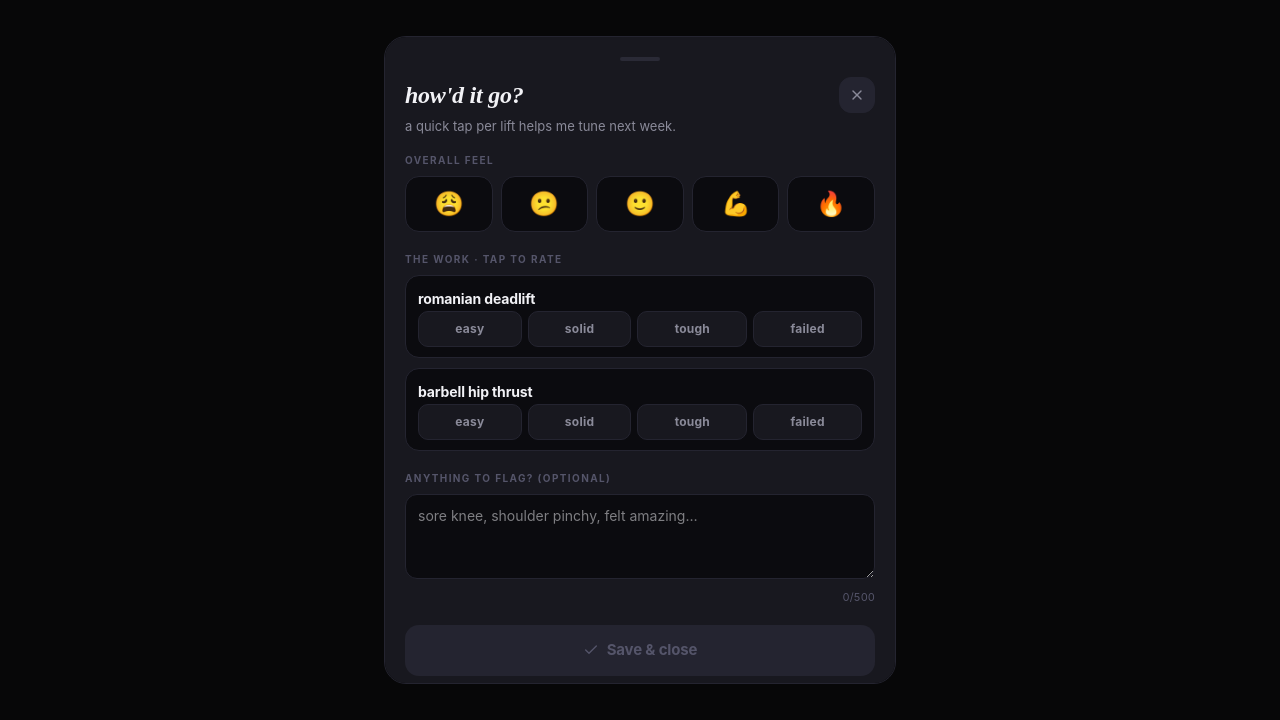
Test: SessionCheckinSheet › Save button is disabled until every exercise is rated and overall feel is set
Expected: the button with test id "checkin-save" is disabled, [405,625,875,676]
Click the radio button with test id "rating-ex:rdl-solid" at (580, 328), box [528,310,631,346]
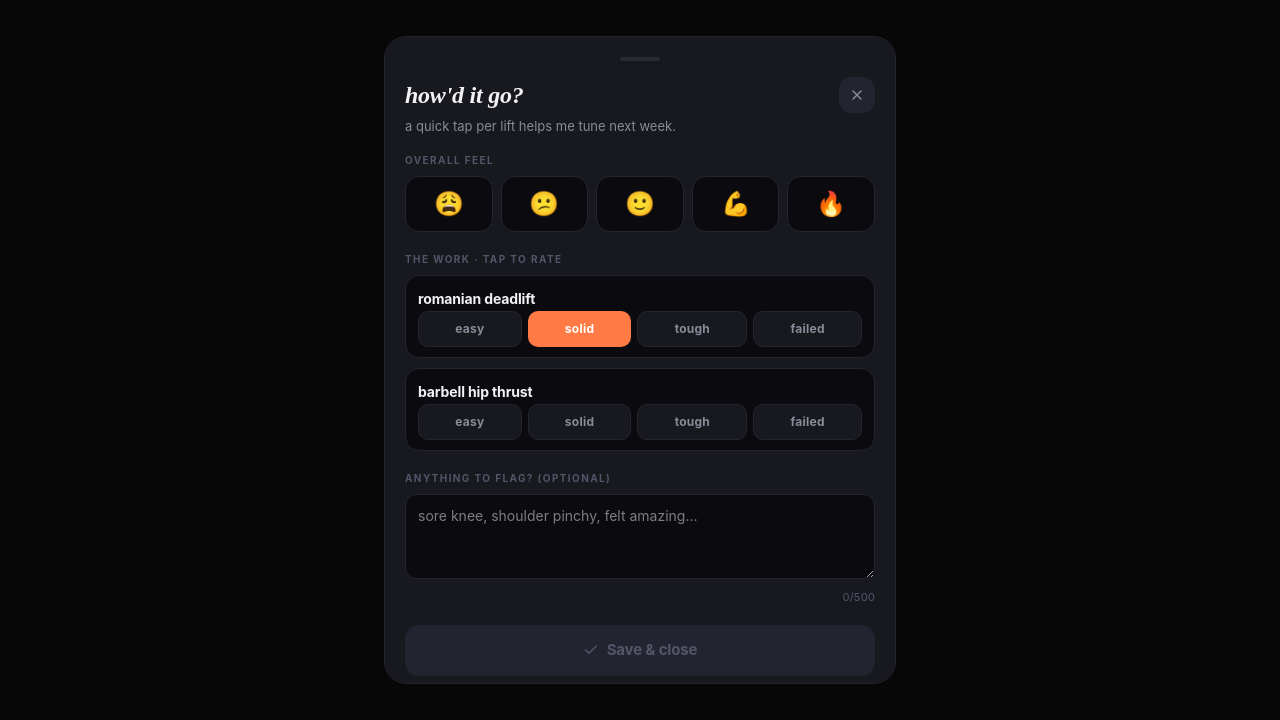
Expected: the button with test id "checkin-save" is disabled, [405,625,875,676]
Click the radio button with test id "rating-ex:hip-thrust-tough" at (692, 422), box [638,404,747,440]
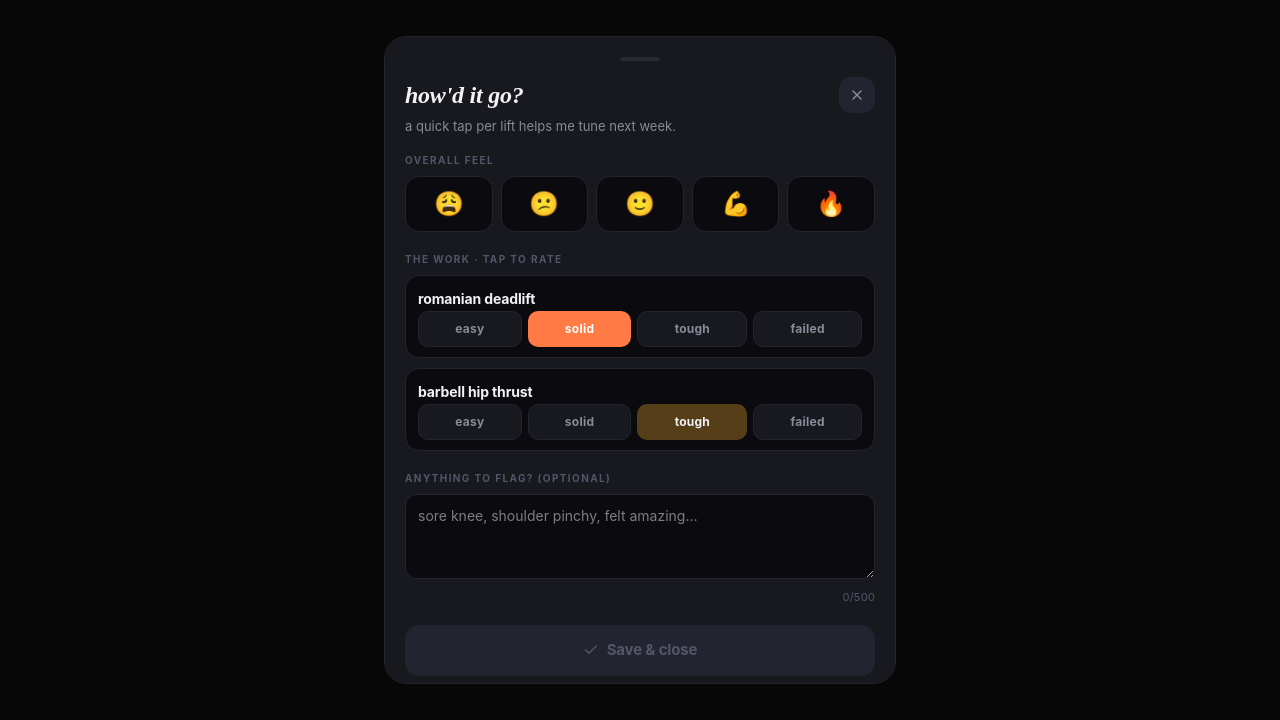
Expected: the button with test id "checkin-save" is disabled, [405,625,875,676]
Click the radio button with test id "feel-4" at (736, 204), box [692,176,779,232]
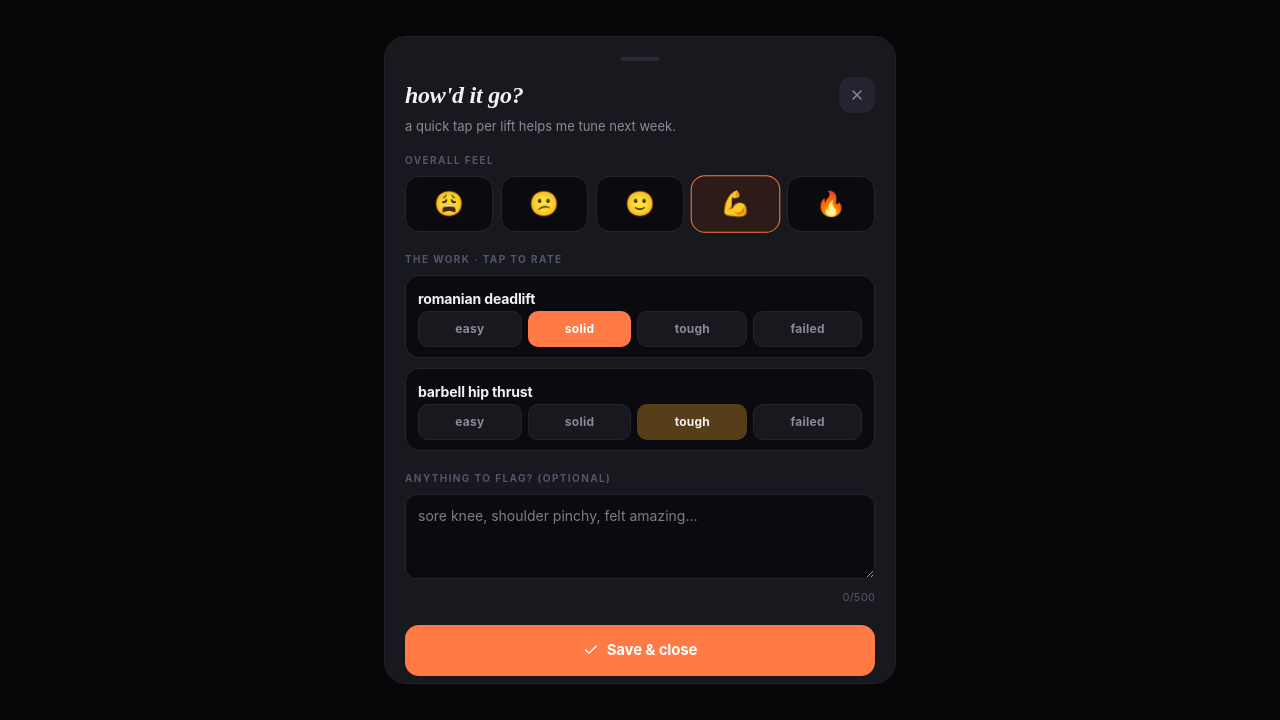
Expected: the button with test id "checkin-save" is enabled, [405,625,875,676]
